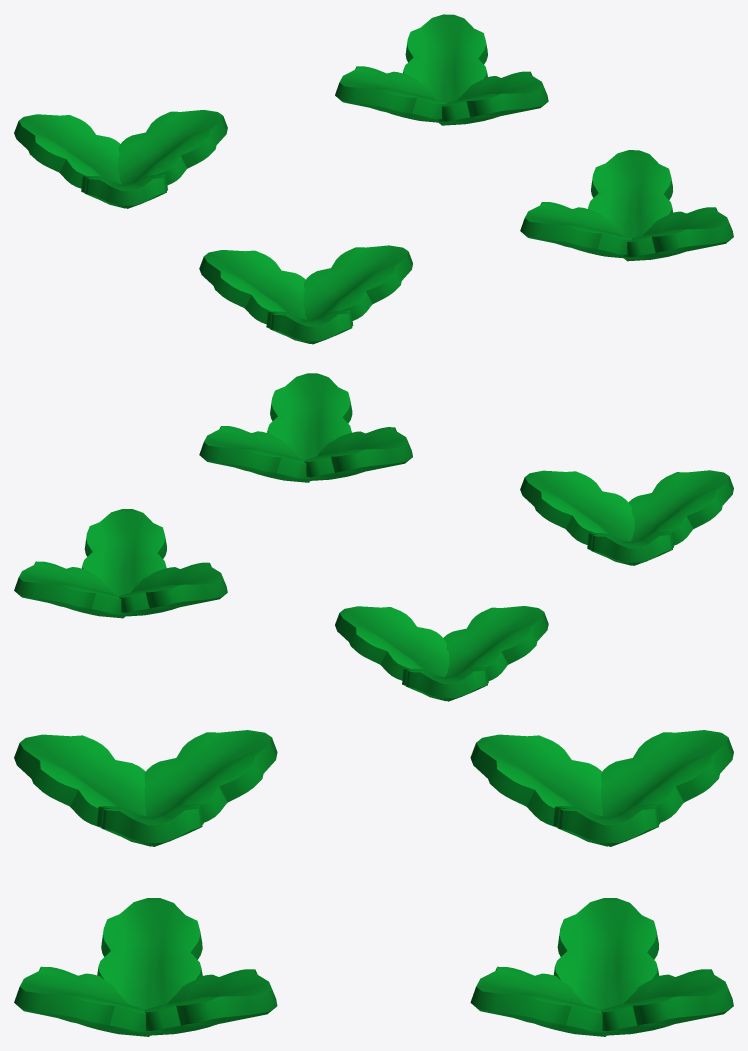
The model's file is Farm_Crop_Broccoli_Step_01.glb.
3 renders of one model, top to bottom at view 1: azimuth 30°, elevation 25°; view 2: azimuth 150°, elevation 25°; view 3: azimuth 270°, elevation 25°, orthographic. The views are drawn at different scales.
Visible parts, largest first — view 1: Farm_Crop_Broccoli_Step_01; view 2: Farm_Crop_Broccoli_Step_01; view 3: Farm_Crop_Broccoli_Step_01.
Boxes of the visible parts, x1=… form: Farm_Crop_Broccoli_Step_01: x1=14, y1=14, x2=733, y2=344; Farm_Crop_Broccoli_Step_01: x1=14, y1=373, x2=733, y2=701; Farm_Crop_Broccoli_Step_01: x1=14, y1=730, x2=733, y2=1036.
Size of the model in its own units: 1.42 by 0.1838 by 1.58.
1 material, 1 textured.
